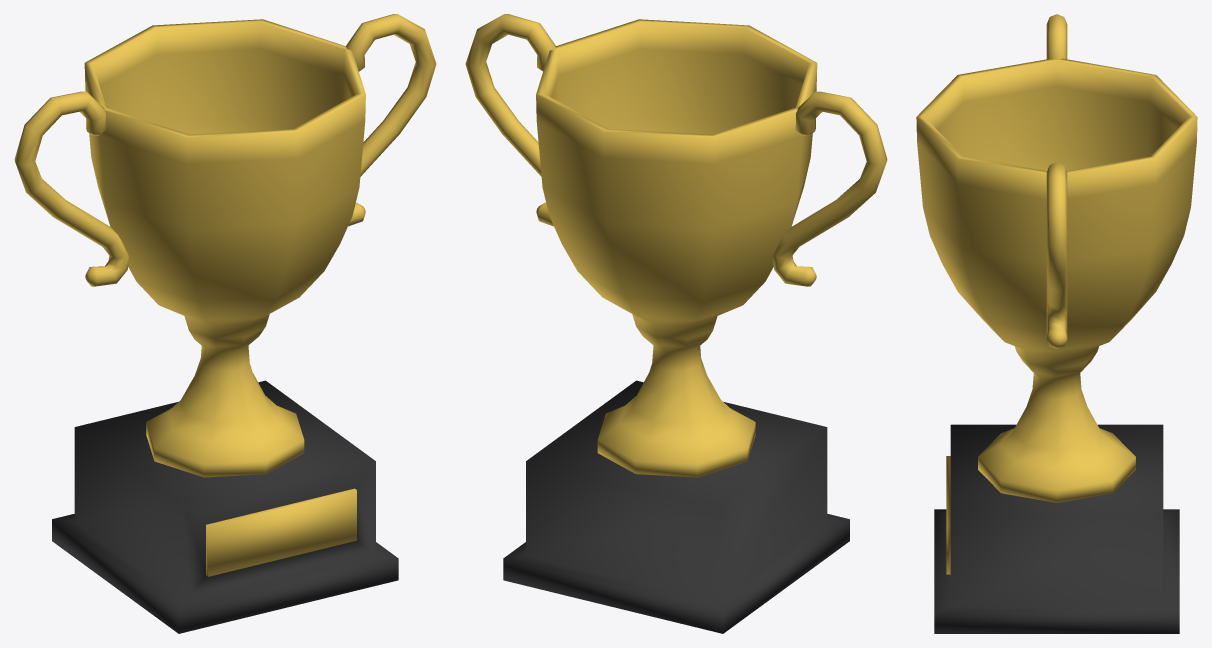
The model's file is psx_style_trophy.obj.
3 renders of one model, left to right at view 1: azimuth 30°, elevation 25°; view 2: azimuth 150°, elevation 25°; view 3: azimuth 270°, elevation 25°, orthographic. The views are drawn at different scales.
Visible parts, largest first — view 1: Object_5, Object_4; view 2: Object_5, Object_4; view 3: Object_5, Object_4.
Part boxes in pixels (bbox=[...]): Object_5: bbox=[14, 14, 436, 576]; Object_4: bbox=[52, 380, 398, 633]; Object_5: bbox=[465, 14, 887, 477]; Object_4: bbox=[503, 380, 849, 633]; Object_5: bbox=[916, 14, 1197, 574]; Object_4: bbox=[934, 424, 1179, 633].
Bounding box in the file's own units: 0.7595 × 0.8723 × 0.4563.
